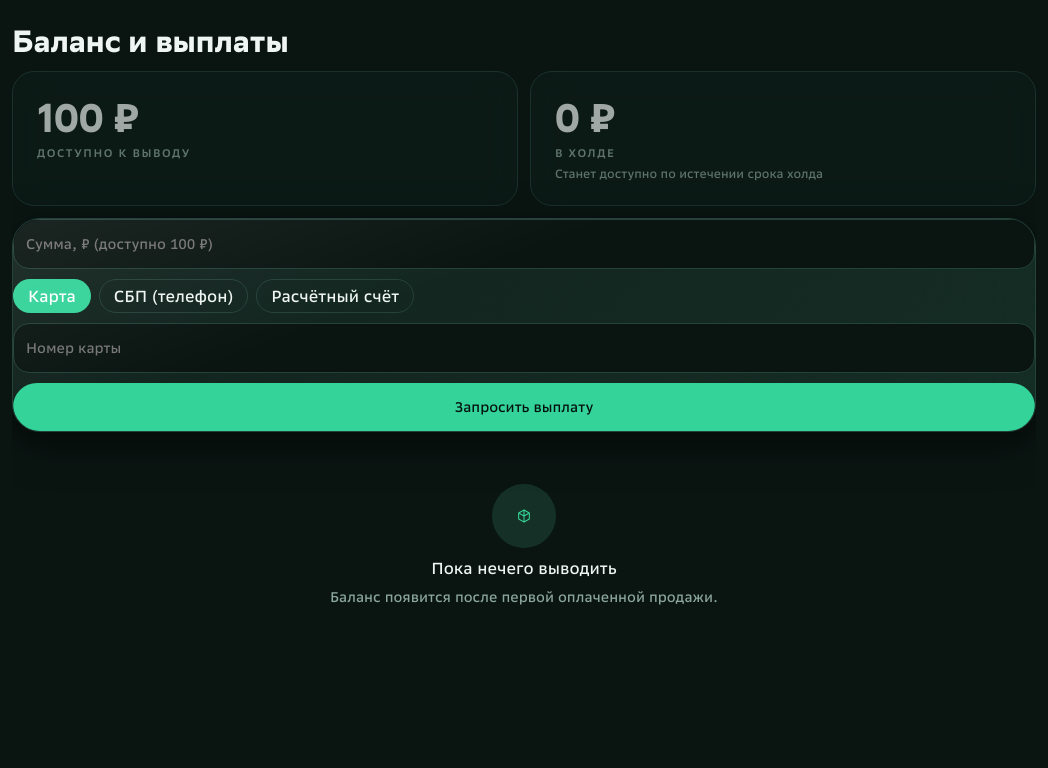
Scenario: баланс и выплаты автора › создаёт заявку на вывод и обновляет список
The image size is (1048, 768).
Type "40" into the field with placeholder "Сумма, ₽ (доступно 100 ₽)" at (524, 244), box [14,220,1034,268]
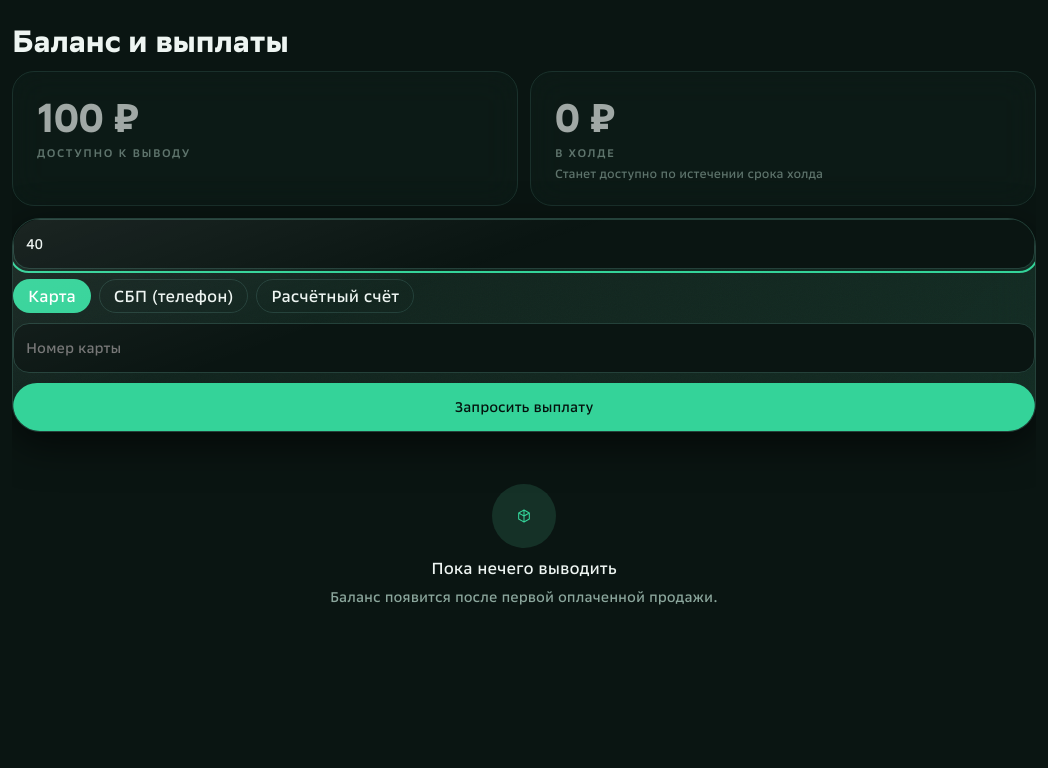
Type "4444555566667777" into the field with placeholder "Номер карты" at (524, 348), box [14,324,1034,372]
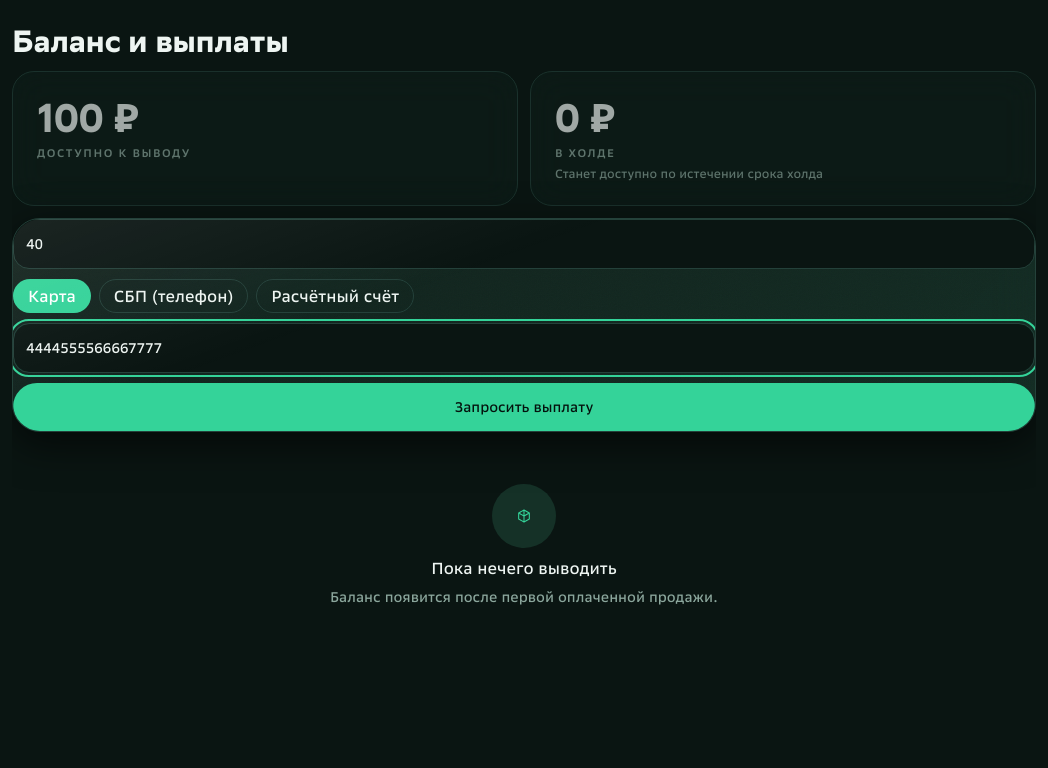
Click the button "Запросить выплату" at (524, 407), box [13,383,1035,431]
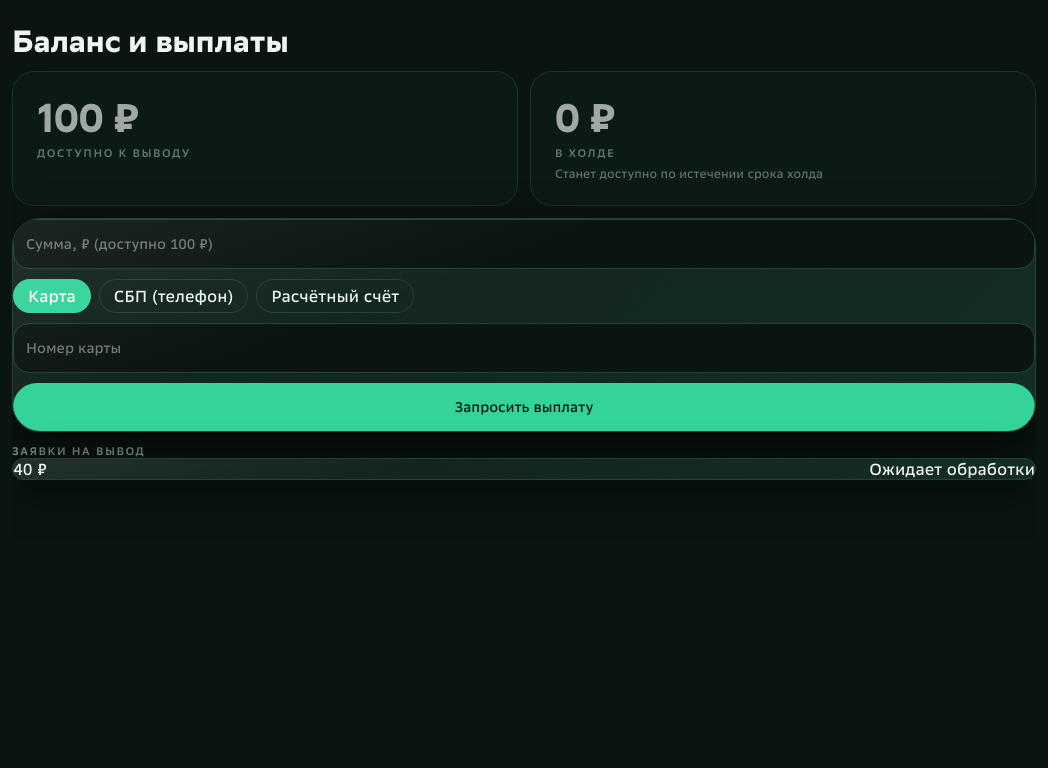
expect the text "Ожидает обработки" is shown: met, box [869,459,1035,479]
